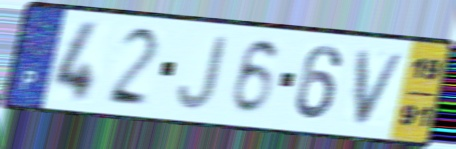2: (100, 26, 165, 108)
4: (49, 18, 102, 106)
6: (229, 37, 282, 118), (295, 43, 344, 123)
J: (176, 34, 231, 113)
V: (352, 48, 410, 129)
